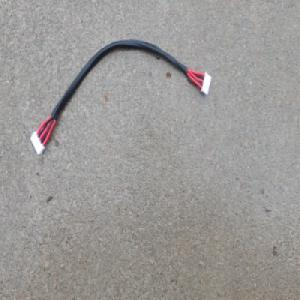Wire: (29, 36, 212, 157)
